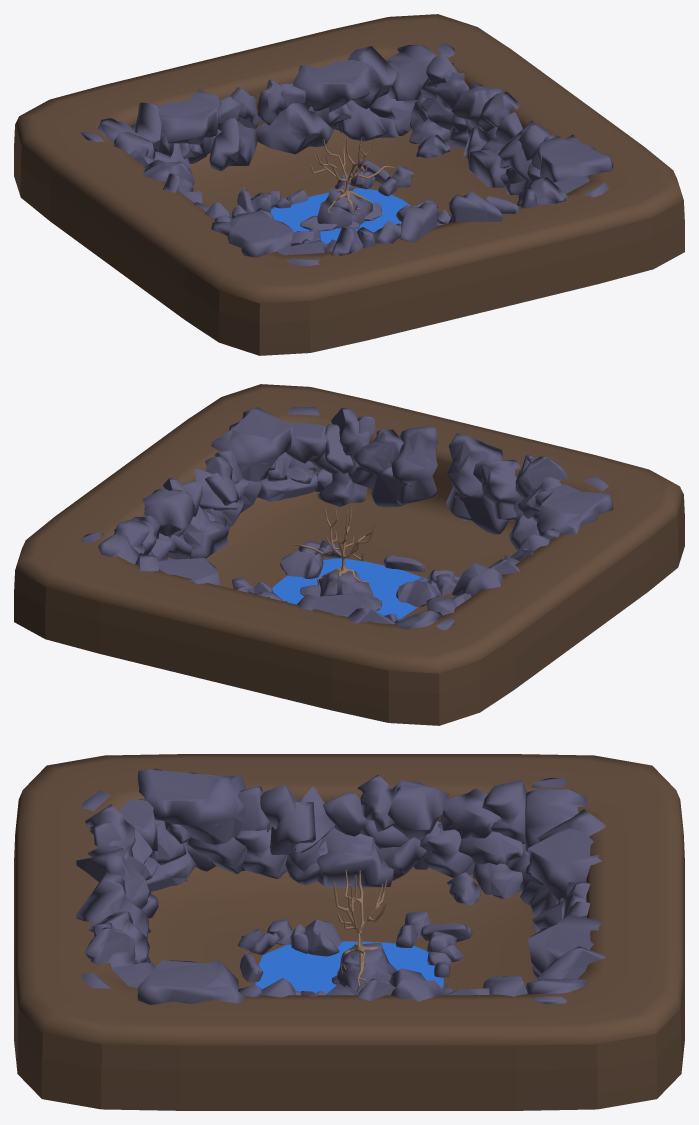
The model's file is Level_WaterShader.fbx.
The picture shows the model from 3 angles, top to bottom: view 1: azimuth 30°, elevation 25°; view 2: azimuth 150°, elevation 25°; view 3: azimuth 270°, elevation 25°; orthographic projection. The views are drawn at different scales.
Parts seen in each view (by area): view 1: ground, Stone.066, Stone.067, Stone.058, Stone.054, Stone.018, water, Stone.064, Stone.031, Stone.061, Stone.056, Stone.059 (+23 smaller); view 2: ground, Stone.067, Stone.064, Stone.046, water, Stone.031, Stone.065, Stone.066, Stone.047, Stone.063, Stone.044, Stone.010 (+15 smaller); view 3: ground, Stone.067, Stone.066, water, Stone.064, Stone.031, Stone.054, Stone.037, Stone.059, Stone.047, Stone.065, Stone.060 (+29 smaller).
Boxes of the visible parts, x1=… form: ground: x1=14, y1=14, x2=684, y2=355; Stone.066: x1=158, y1=60, x2=371, y2=144; Stone.067: x1=211, y1=134, x2=613, y2=257; Stone.058: x1=209, y1=103, x2=333, y2=171; Stone.054: x1=81, y1=43, x2=454, y2=158; Stone.018: x1=135, y1=46, x2=396, y2=156; water: x1=270, y1=188, x2=410, y2=244; Stone.064: x1=400, y1=191, x2=502, y2=242; Stone.031: x1=142, y1=83, x2=502, y2=184; Stone.061: x1=169, y1=100, x2=398, y2=169; Stone.056: x1=231, y1=79, x2=285, y2=128; Stone.059: x1=113, y1=52, x2=457, y2=155; ground: x1=14, y1=384, x2=684, y2=725; Stone.067: x1=211, y1=407, x2=613, y2=535; Stone.064: x1=391, y1=426, x2=502, y2=520; Stone.046: x1=350, y1=429, x2=520, y2=520; water: x1=272, y1=558, x2=427, y2=619; Stone.031: x1=142, y1=488, x2=503, y2=596; Stone.065: x1=331, y1=408, x2=568, y2=498; Stone.066: x1=158, y1=558, x2=364, y2=616; Stone.047: x1=286, y1=406, x2=608, y2=509; Stone.063: x1=371, y1=466, x2=508, y2=534; Stone.044: x1=317, y1=471, x2=539, y2=550; Stone.010: x1=280, y1=551, x2=437, y2=607; ground: x1=14, y1=754, x2=684, y2=1110; Stone.067: x1=137, y1=768, x2=246, y2=1004; Stone.066: x1=528, y1=828, x2=601, y2=974; water: x1=255, y1=941, x2=443, y2=993; Stone.064: x1=76, y1=848, x2=151, y2=962; Stone.031: x1=387, y1=779, x2=448, y2=1001; Stone.054: x1=525, y1=778, x2=587, y2=1004; Stone.037: x1=317, y1=828, x2=393, y2=887; Stone.059: x1=482, y1=780, x2=527, y2=996; Stone.047: x1=81, y1=790, x2=157, y2=988; Stone.065: x1=84, y1=804, x2=135, y2=964; Stone.060: x1=441, y1=788, x2=501, y2=995.
Bounding box in the file's own units: 10914 × 2766 × 10914.
